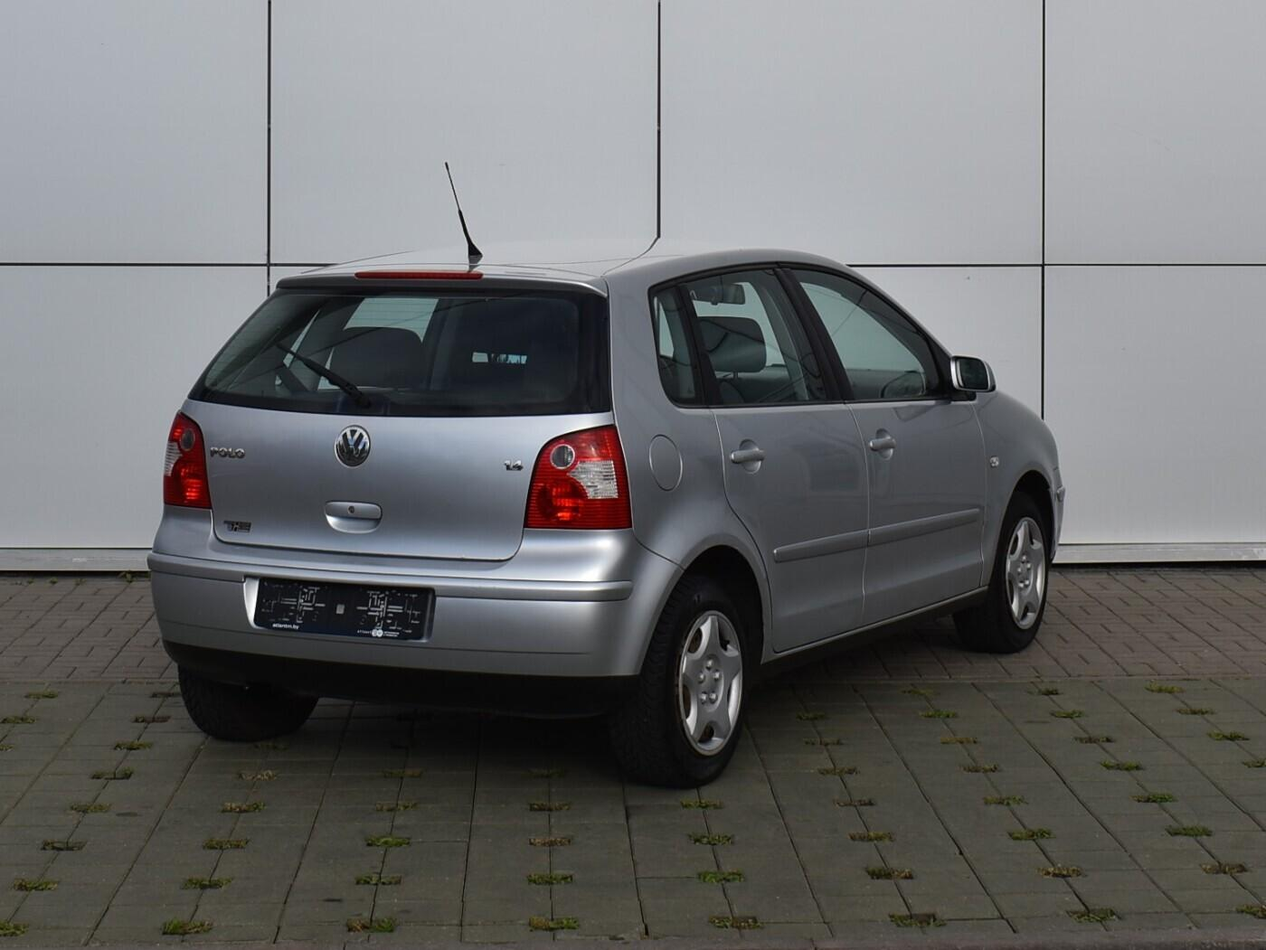Polo_2001-2005: (112, 225, 1083, 788)
